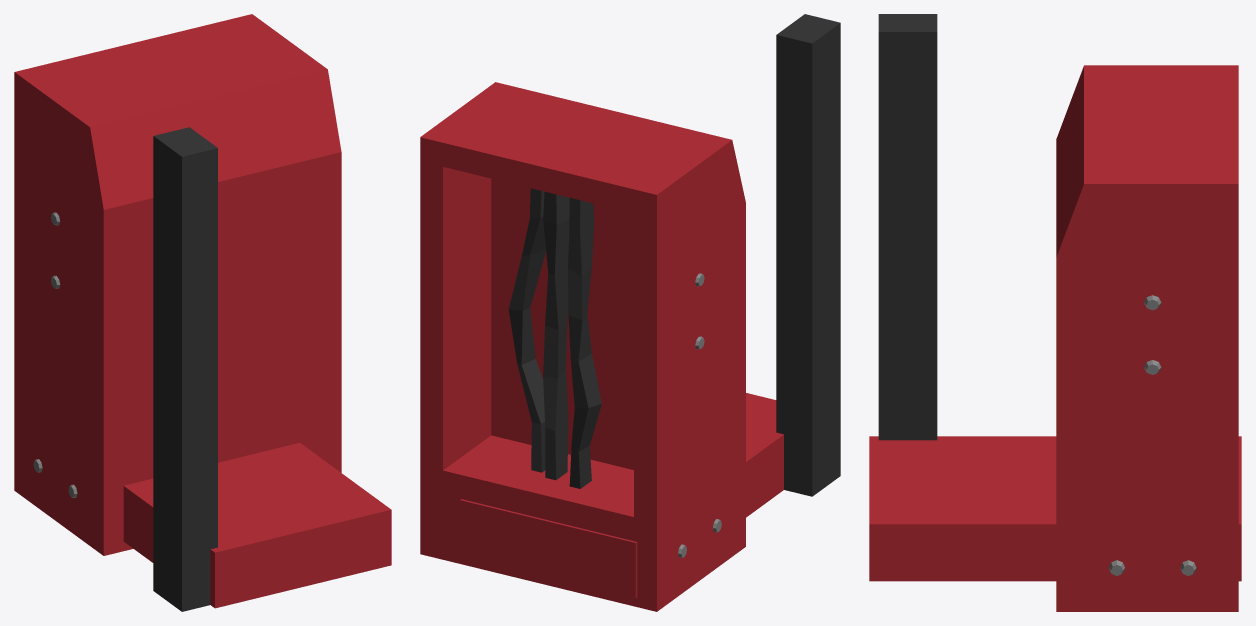
The model's file is arm3_neck_origin.glb.
3 views of the same model, side by side, from view 1: azimuth 30°, elevation 25°; view 2: azimuth 150°, elevation 25°; view 3: azimuth 270°, elevation 25° (orthographic). The views are drawn at different scales.
Visible parts, largest first — view 1: neck.002; view 2: neck.002; view 3: neck.002.
Boxes of the visible parts, left/top/right/bottom form: neck.002: left=14, top=14, right=391, bottom=611; neck.002: left=420, top=14, right=840, bottom=611; neck.002: left=869, top=14, right=1241, bottom=611.
Bounding box in the file's own units: 0.0463 × 0.0819 × 0.0582.
